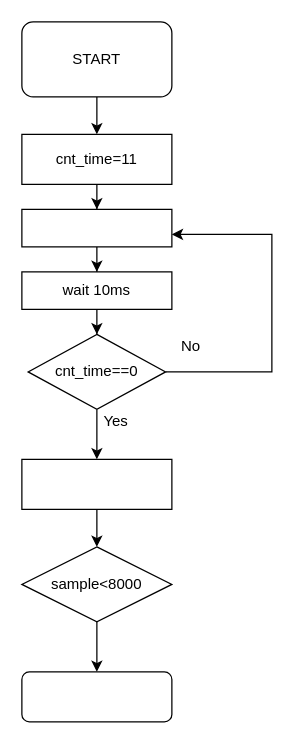
This 304x744 diagram has some shape labels left out. The centre of each missing label's shape, as x and y in pixels:
"cnt_time--" belongs at pixel 96 227.
"End" belongs at pixel 96 696.
"get sample" belongs at pixel 96 483.
